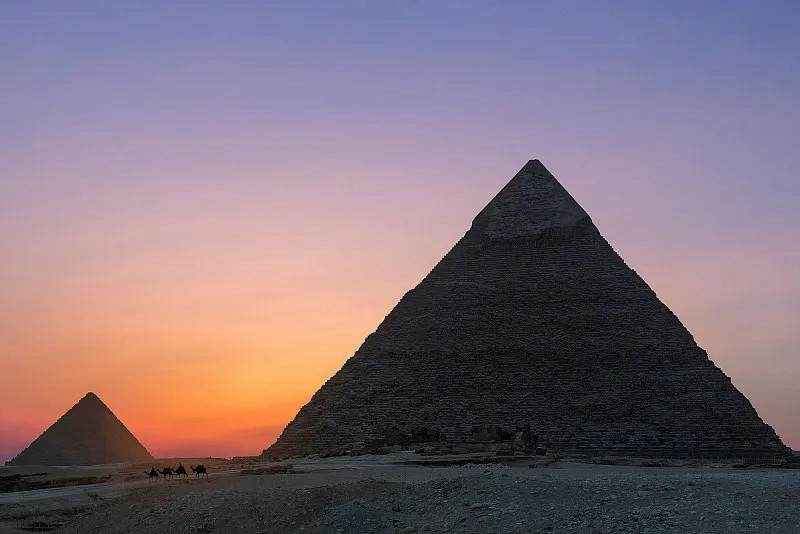Pyramid: (261, 160, 797, 458), (4, 393, 155, 462)
